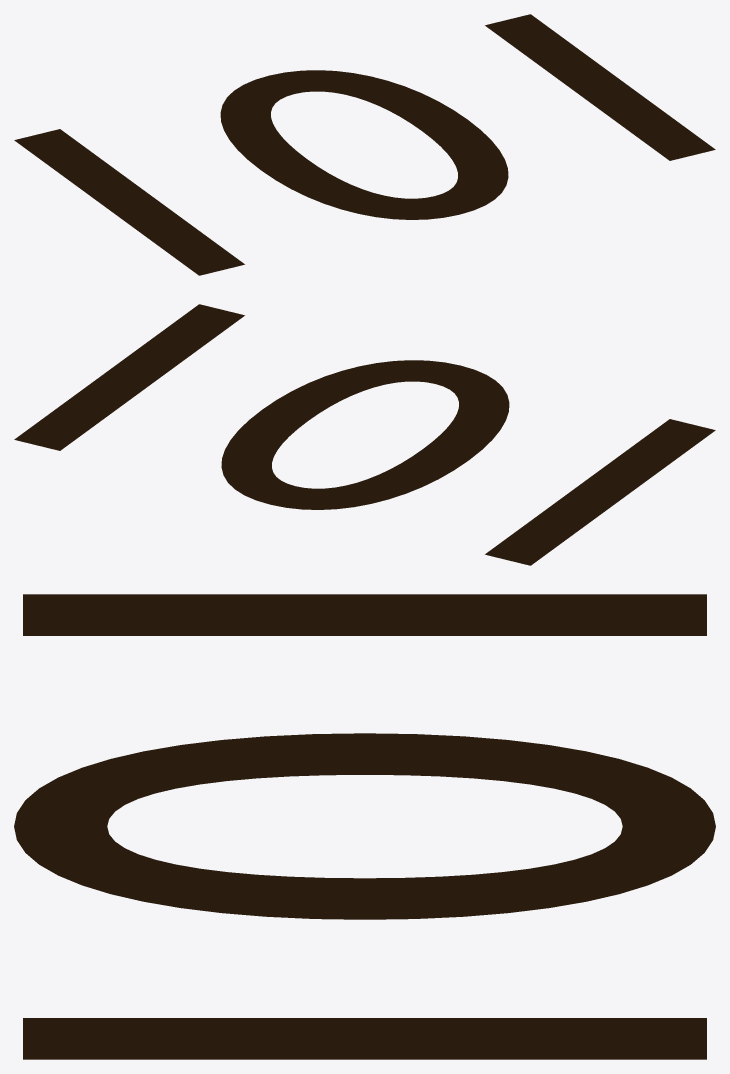
The model's file is MOD_Numeros(101).fbx.
3 renders of one model, top to bottom at view 1: azimuth 30°, elevation 25°; view 2: azimuth 150°, elevation 25°; view 3: azimuth 270°, elevation 25°, orthographic. The views are drawn at different scales.
Visible parts, largest first — view 1: Text; view 2: Text; view 3: Text.
Boxes of the visible parts, bbox=[...] form: Text: bbox=[14, 14, 715, 275]; Text: bbox=[14, 304, 715, 565]; Text: bbox=[14, 594, 715, 1059].
Bounding box in the file's own units: 110 × 1.14e-05 × 70.
